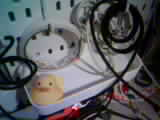duck: (26, 66, 64, 102)
